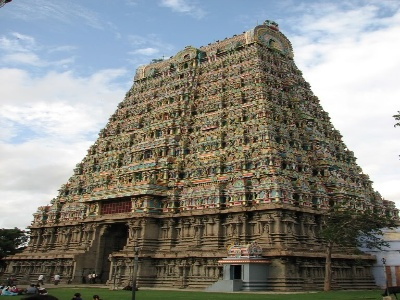gopura: (57, 23, 385, 228)
